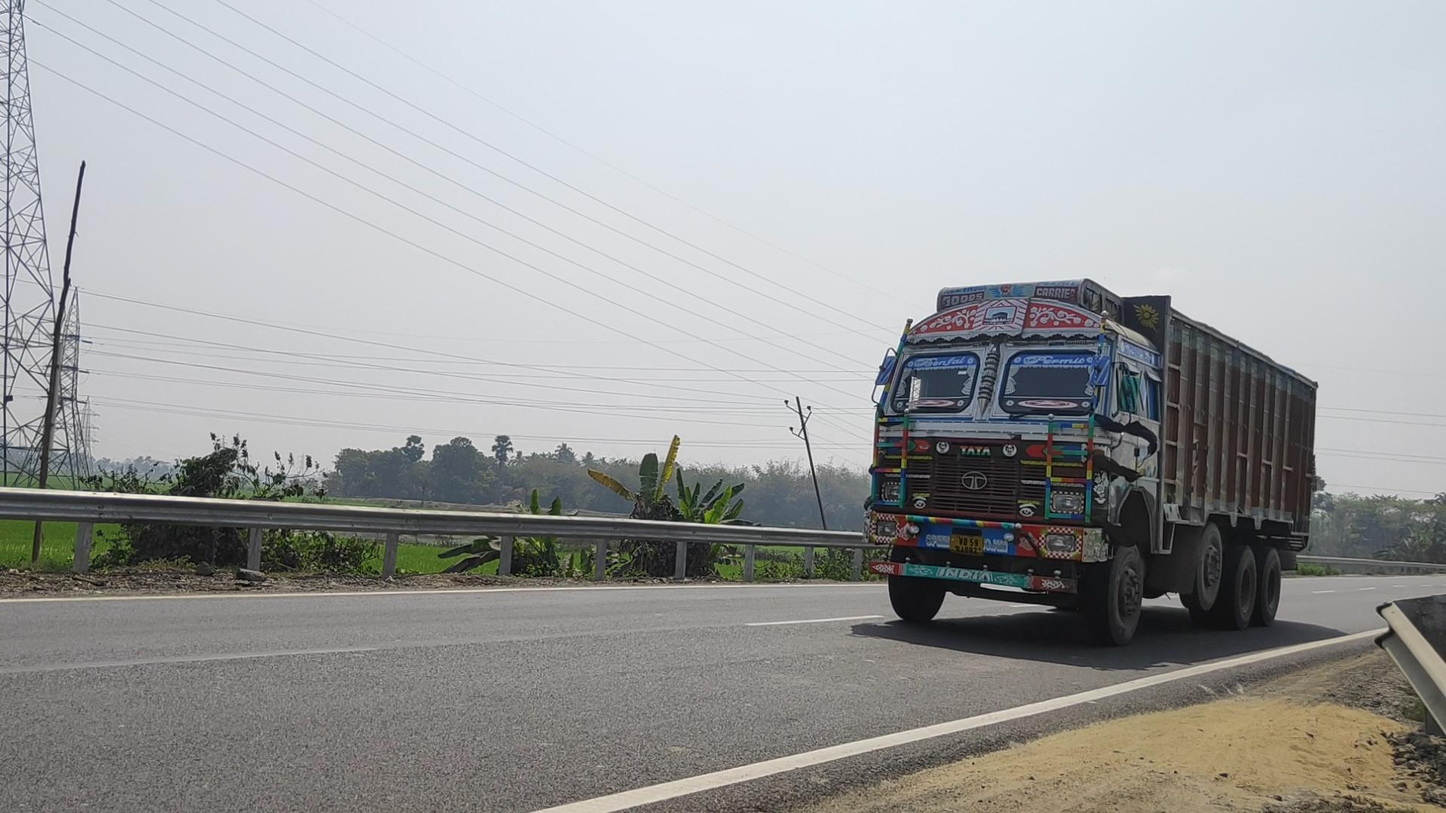truck: (862, 278, 1318, 647)
